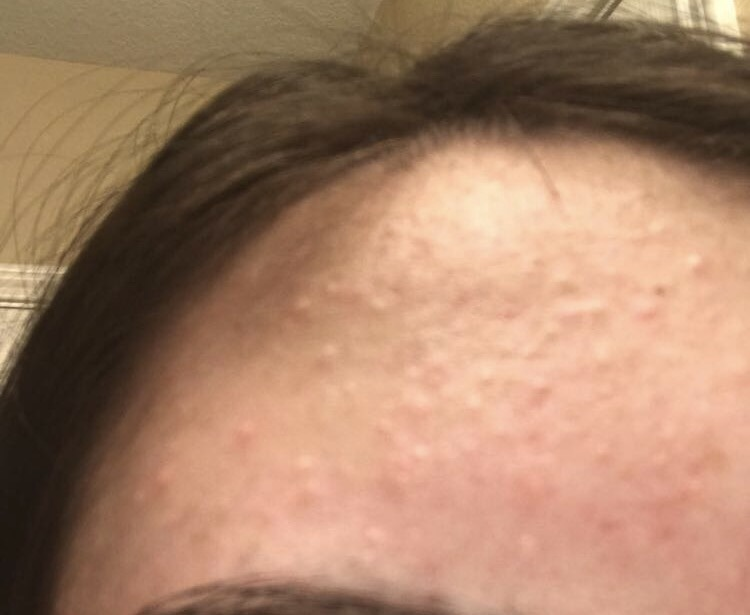Acne: (136, 231, 734, 550)
